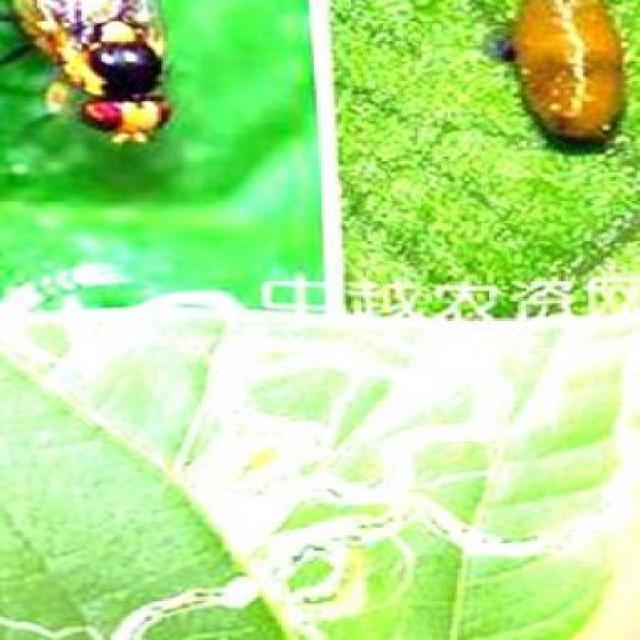whorl-maggot: (492, 0, 636, 154)
